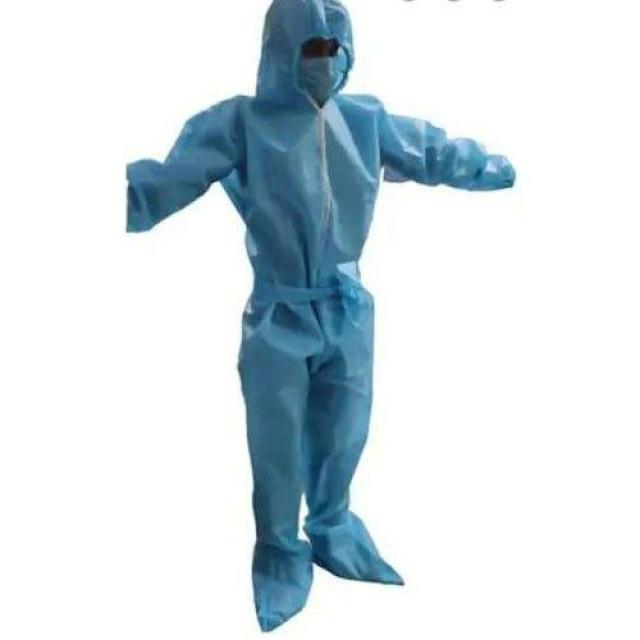Coverall: (84, 0, 477, 623)
Mask: (273, 51, 355, 106)
